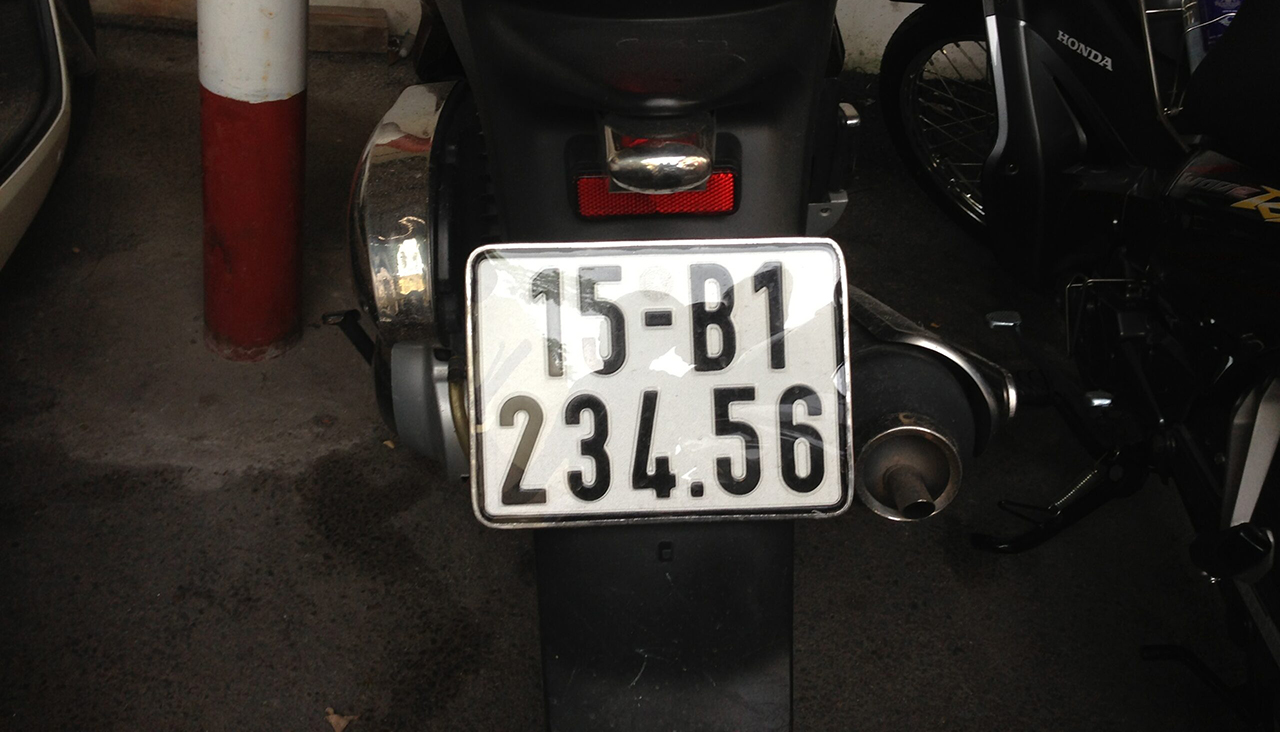bien_so: (451, 232, 874, 537)
